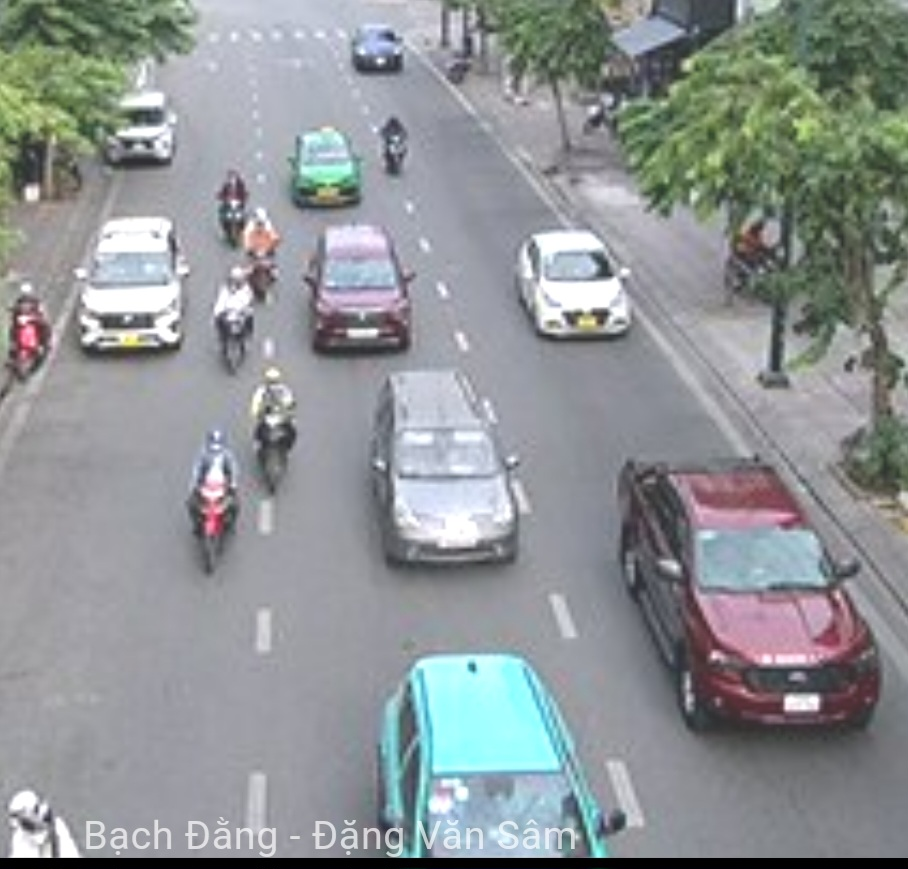car: (619, 454, 888, 731), (381, 657, 617, 851), (368, 373, 524, 565), (72, 215, 189, 357), (309, 223, 415, 359), (515, 228, 639, 342), (290, 127, 364, 208), (100, 91, 178, 167), (350, 22, 405, 76)
